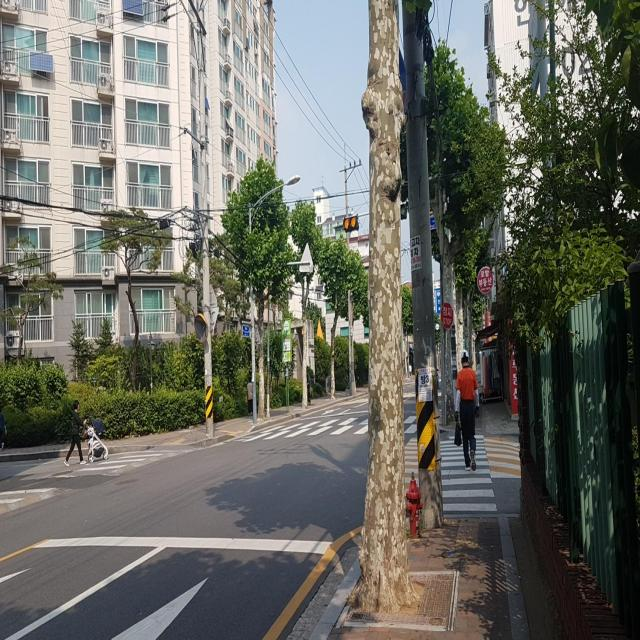횡단보도: (236, 414, 431, 444), (440, 434, 497, 512)
